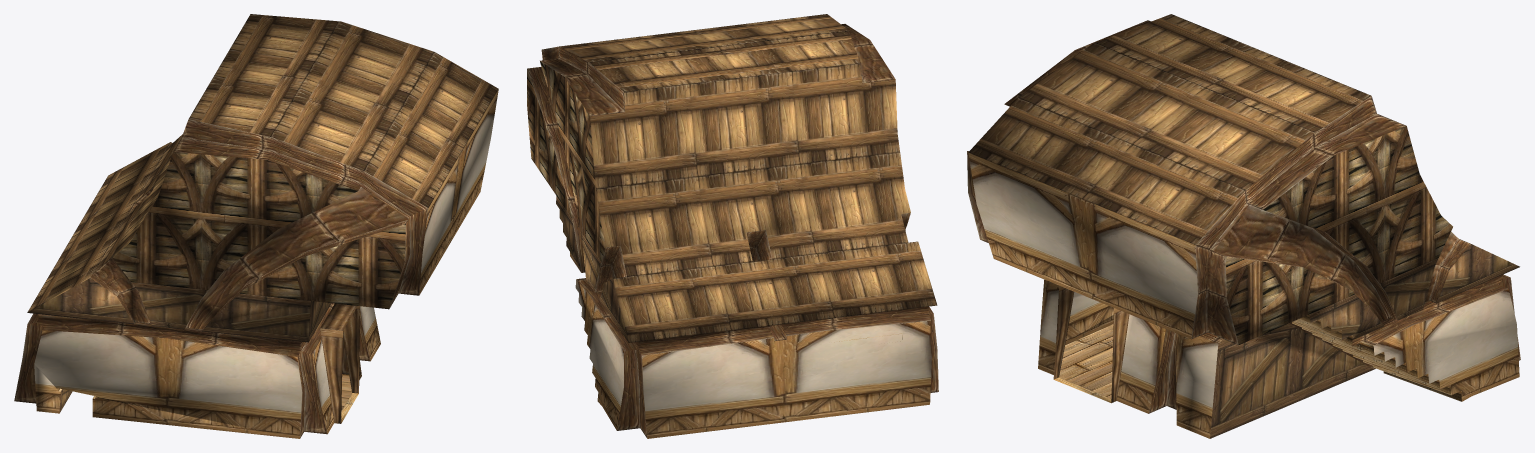
Rendered from stormwind_068.fbx.
The picture shows the model from 3 angles, left to right: view 1: azimuth 30°, elevation 25°; view 2: azimuth 150°, elevation 25°; view 3: azimuth 270°, elevation 25°; orthographic projection. The views are drawn at different scales.
Parts seen in each view (by area): view 1: stormwind_068_55, stormwind_068_49, stormwind_068_48, stormwind_068_53, stormwind_068_56; view 2: stormwind_068_55, stormwind_068_48, stormwind_068_53, stormwind_068_49, stormwind_068_56; view 3: stormwind_068_55, stormwind_068_48, stormwind_068_53, stormwind_068_49, stormwind_068_56, stormwind_068_51.
Part boxes in pixels (x1,y1,x2,y2): stormwind_068_55: (27, 14, 498, 312); stormwind_068_49: (112, 152, 405, 423); stormwind_068_48: (34, 89, 498, 438); stormwind_068_53: (14, 119, 428, 438); stormwind_068_56: (27, 278, 331, 412); stormwind_068_55: (559, 14, 937, 342); stormwind_068_48: (570, 252, 931, 438); stormwind_068_53: (527, 24, 938, 437); stormwind_068_49: (527, 61, 605, 261); stormwind_068_56: (556, 196, 628, 341); stormwind_068_55: (968, 14, 1371, 244); stormwind_068_48: (968, 152, 1519, 438); stormwind_068_53: (967, 20, 1520, 413); stormwind_068_49: (1053, 126, 1452, 402); stormwind_068_56: (1210, 244, 1519, 438); stormwind_068_51: (1059, 324, 1113, 398).
Size of the model in its own units: 21.89 by 13.58 by 21.69.
